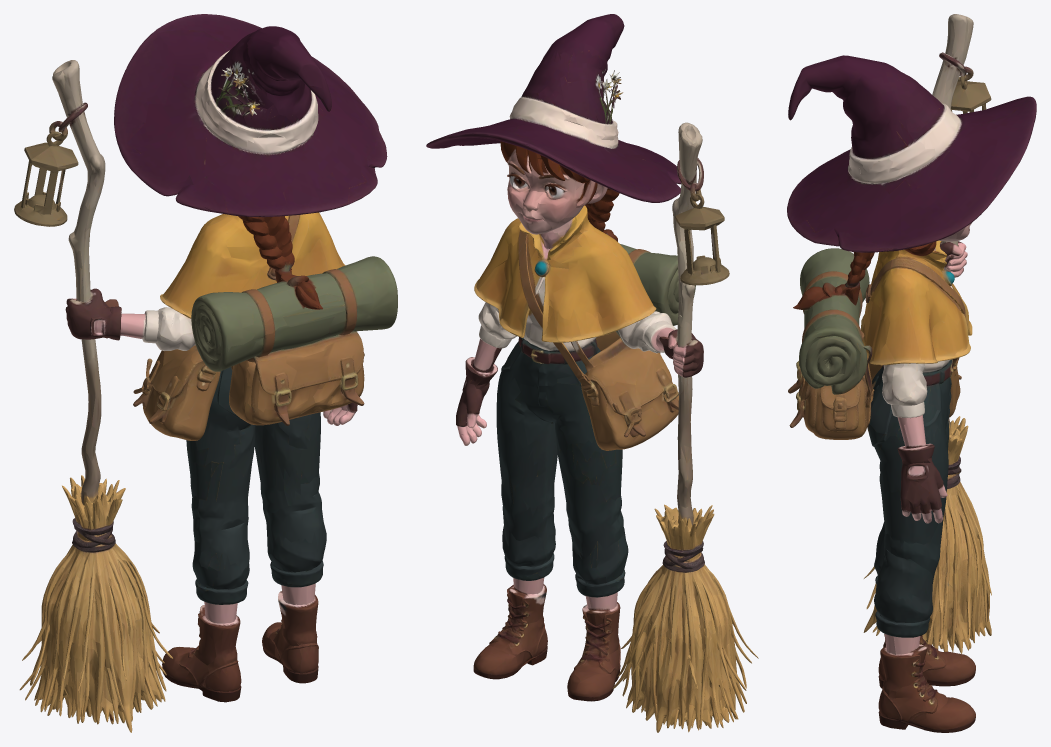
Rendered from rider_stand.glb.
3 renders of one model, left to right at view 1: azimuth 30°, elevation 25°; view 2: azimuth 150°, elevation 25°; view 3: azimuth 270°, elevation 25°, orthographic. The views are drawn at different scales.
Parts seen in each view (by area): view 1: Mesh_0; view 2: Mesh_0; view 3: Mesh_0.
Part boxes in pixels (left/top/right/bottom): Mesh_0: left=14, top=14, right=397, bottom=732; Mesh_0: left=426, top=14, right=758, bottom=732; Mesh_0: left=787, top=14, right=1036, bottom=732.
Bounding box in the file's own units: 0.8284 × 1.61 × 0.5641.
Materials: 1 (1 with a texture image).
